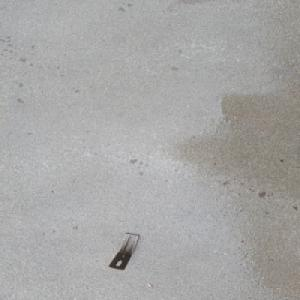MetalPart: (106, 232, 140, 271)
